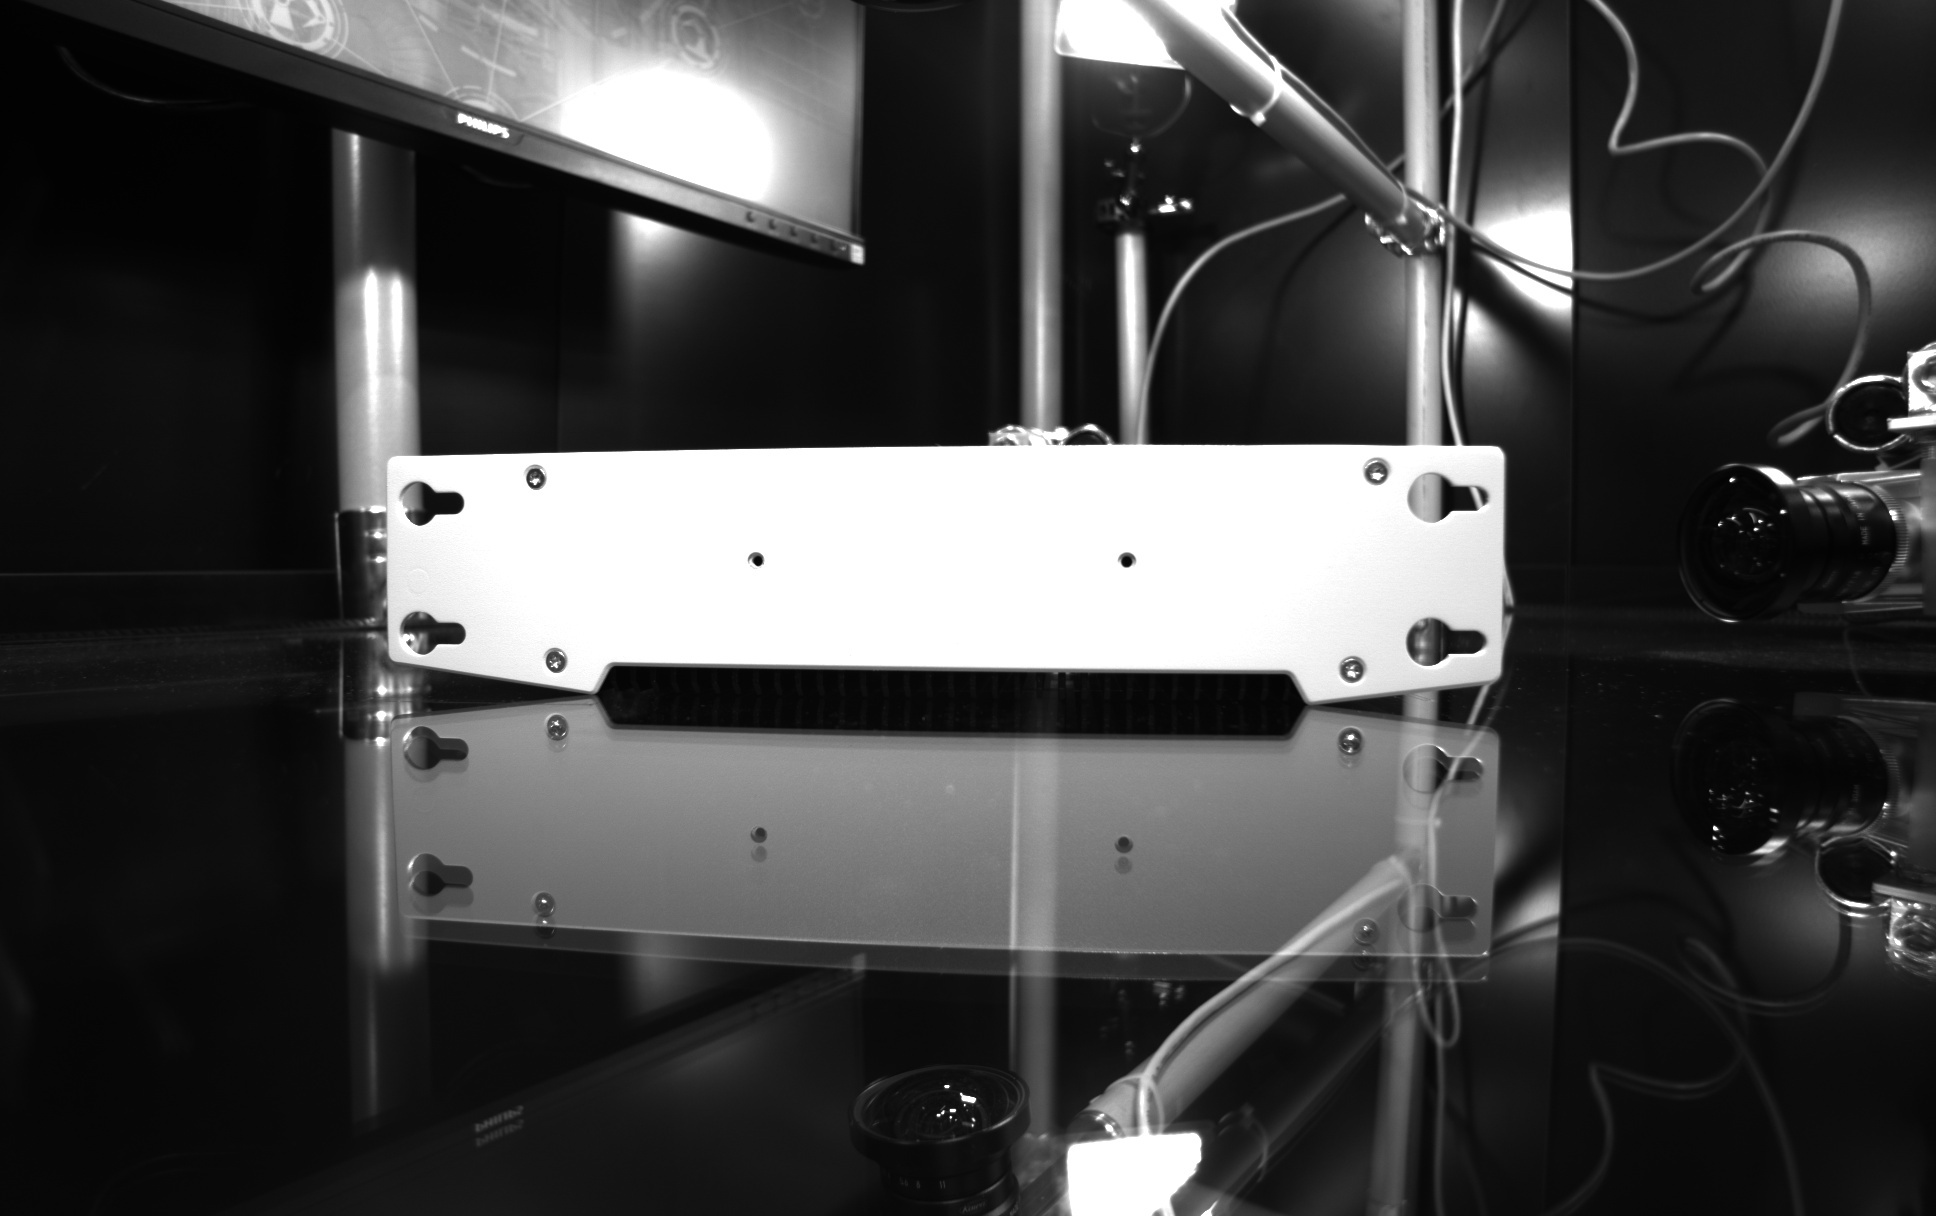CamBack: (352, 412, 1538, 706)
Schraube: (518, 460, 558, 500), (1331, 650, 1370, 691), (537, 642, 576, 681), (1357, 452, 1397, 492)
Schraube_gespiegelt: (1343, 913, 1390, 976), (523, 887, 567, 946), (1331, 721, 1373, 779), (538, 707, 579, 759)
